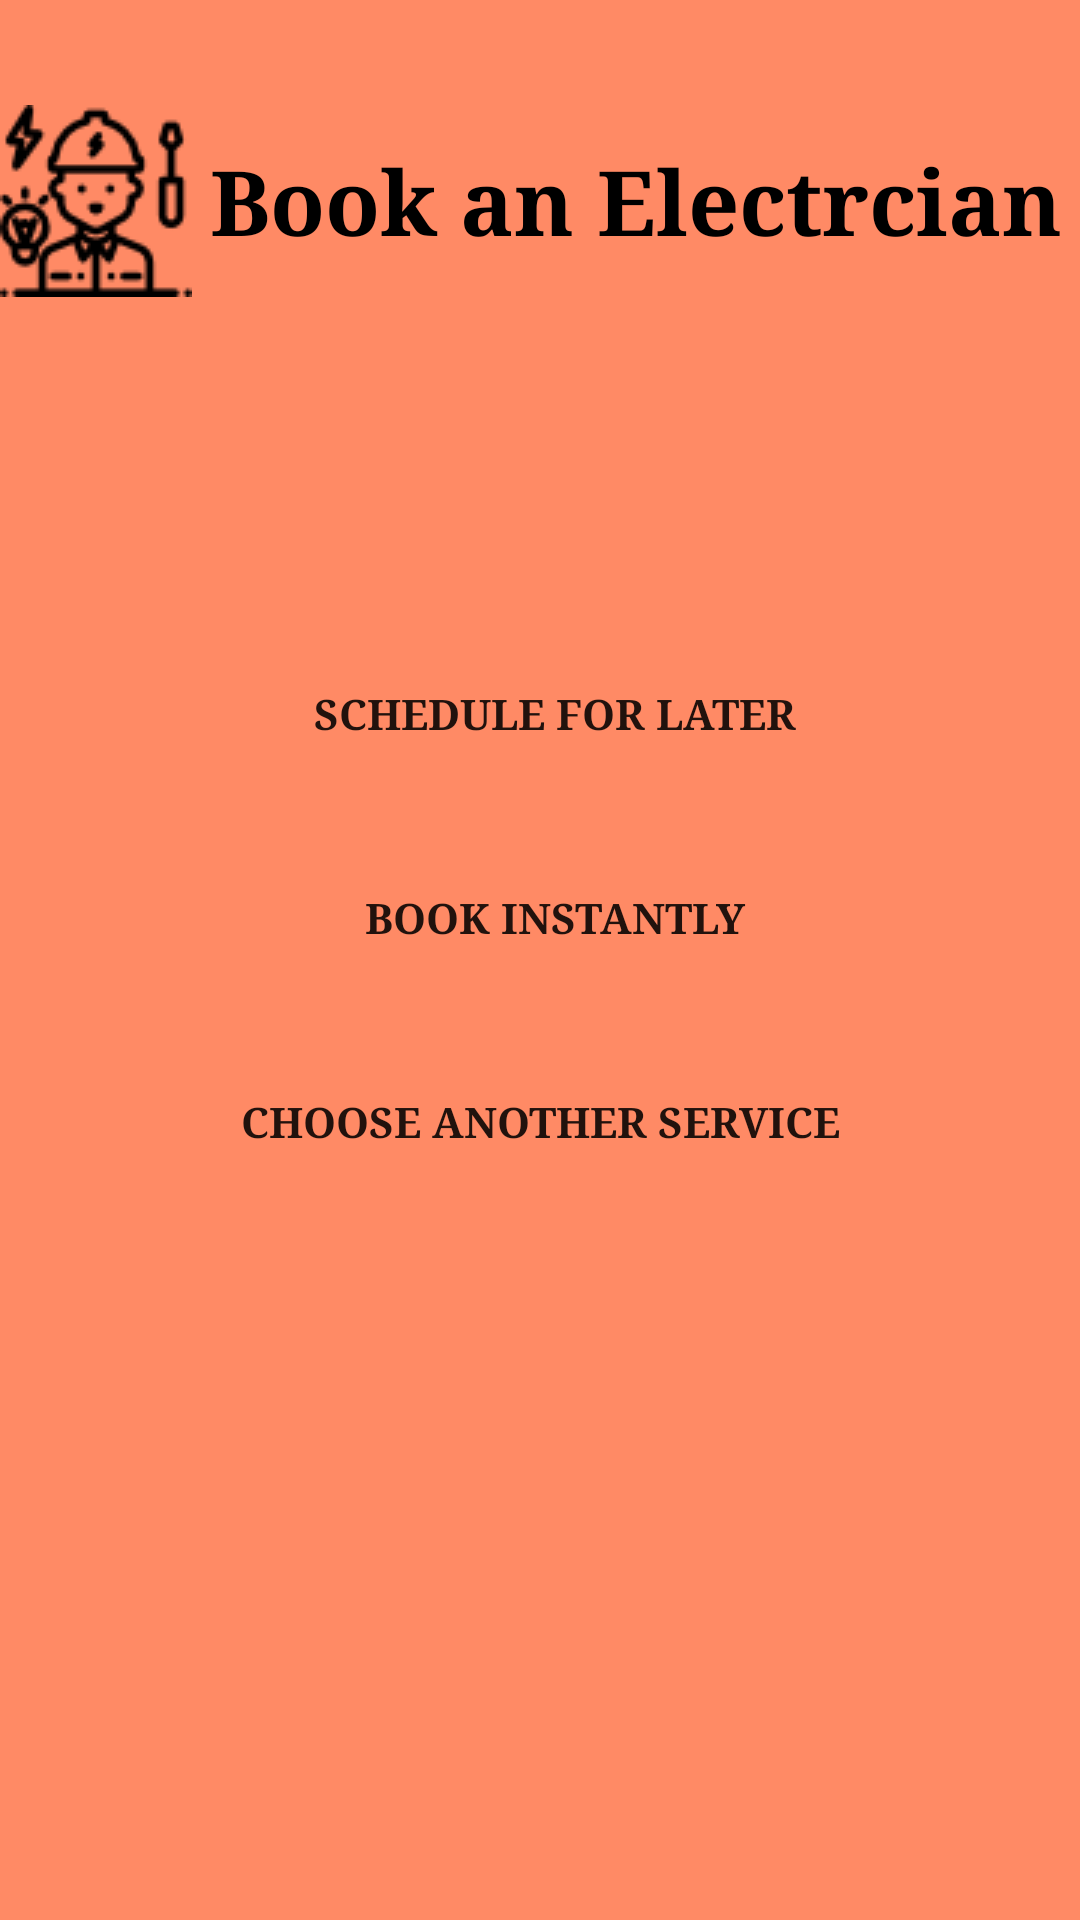

Screen size 1080 × 1920. Icon name, then its box in pixels as (x1, y1, x2, y2):
electrician: (0, 105, 192, 297)
